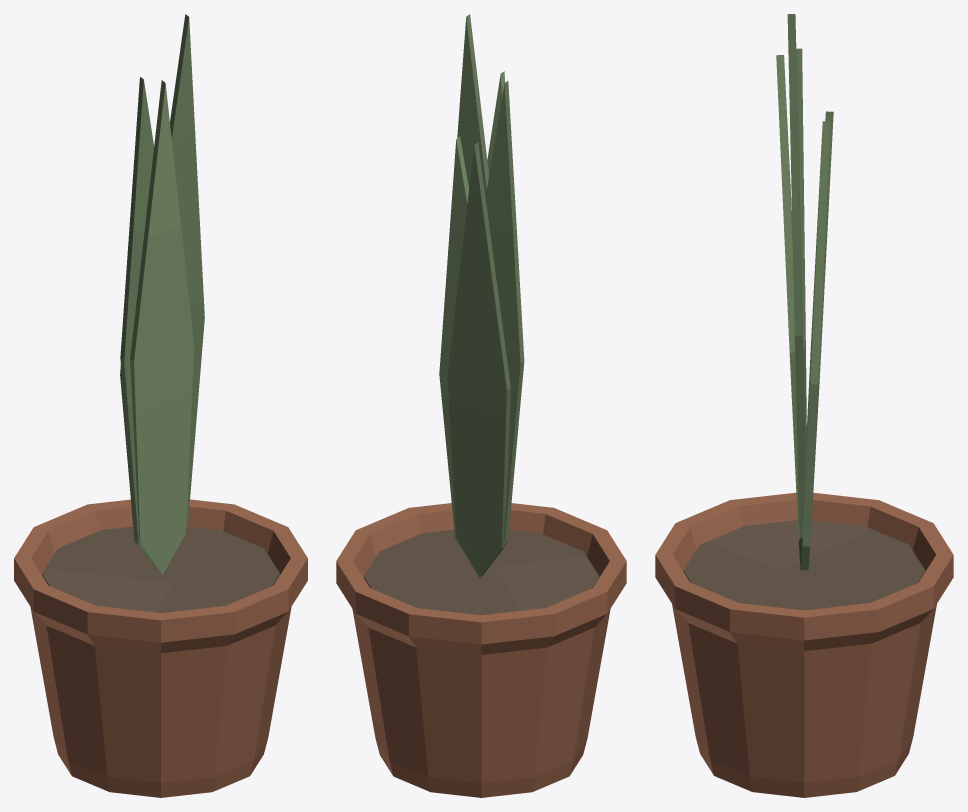
File: snake.glb
3 views of the same model, side by side, from view 1: azimuth 30°, elevation 25°; view 2: azimuth 150°, elevation 25°; view 3: azimuth 270°, elevation 25° (orthographic). The views are drawn at different scales.
Parts seen in each view (by area): view 1: snake/review-terra-vessel, snake/leaf-005, snake/review-rooted-soil, snake/leaf-003, snake/leaf-002; view 2: snake/review-terra-vessel, snake/leaf-004, snake/review-rooted-soil, snake/leaf-002, snake/leaf-001, snake/leaf-003, snake/leaf-005; view 3: snake/review-terra-vessel, snake/review-rooted-soil, snake/leaf-003, snake/leaf-001, snake/leaf-005, snake/leaf-002, snake/leaf-004.
Part boxes in pixels (box(x1,y1,x2,y2)): snake/review-terra-vessel: box(14, 499, 307, 797); snake/leaf-005: box(130, 80, 194, 574); snake/review-rooted-soil: box(42, 526, 279, 612); snake/leaf-003: box(170, 14, 204, 528); snake/leaf-002: box(120, 77, 161, 573); snake/review-terra-vessel: box(336, 503, 626, 797); snake/leaf-004: box(447, 142, 510, 577); snake/review-rooted-soil: box(363, 529, 599, 615); snake/leaf-002: box(483, 81, 524, 574); snake/leaf-001: box(439, 136, 476, 572); snake/leaf-003: box(457, 14, 488, 196); snake/leaf-005: box(482, 71, 505, 575); snake/review-terra-vessel: box(655, 492, 953, 797); snake/review-rooted-soil: box(683, 520, 925, 610); snake/leaf-003: box(787, 14, 805, 567); snake/leaf-001: box(800, 121, 830, 570); snake/leaf-005: box(776, 55, 803, 570); snake/leaf-002: box(796, 48, 806, 467); snake/leaf-004: box(809, 111, 833, 560).
Bounding box in the file's own units: 0.19 × 0.5271 × 0.19.
3 materials, 3 textured.
